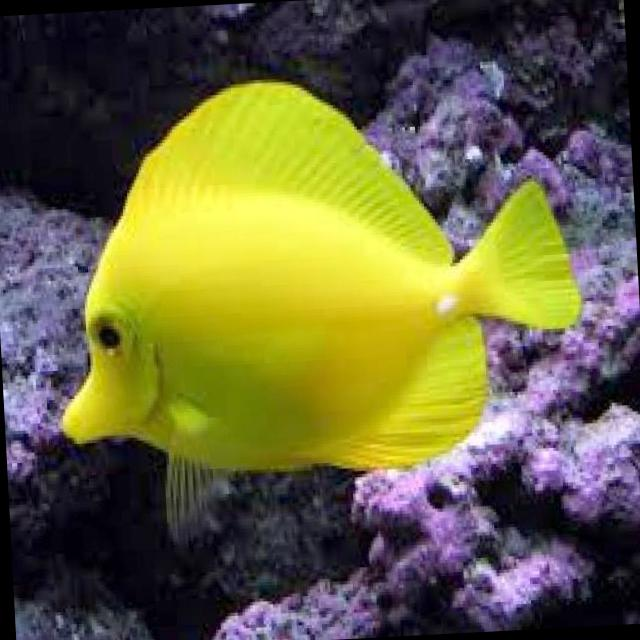TangFish: (39, 57, 592, 542)
